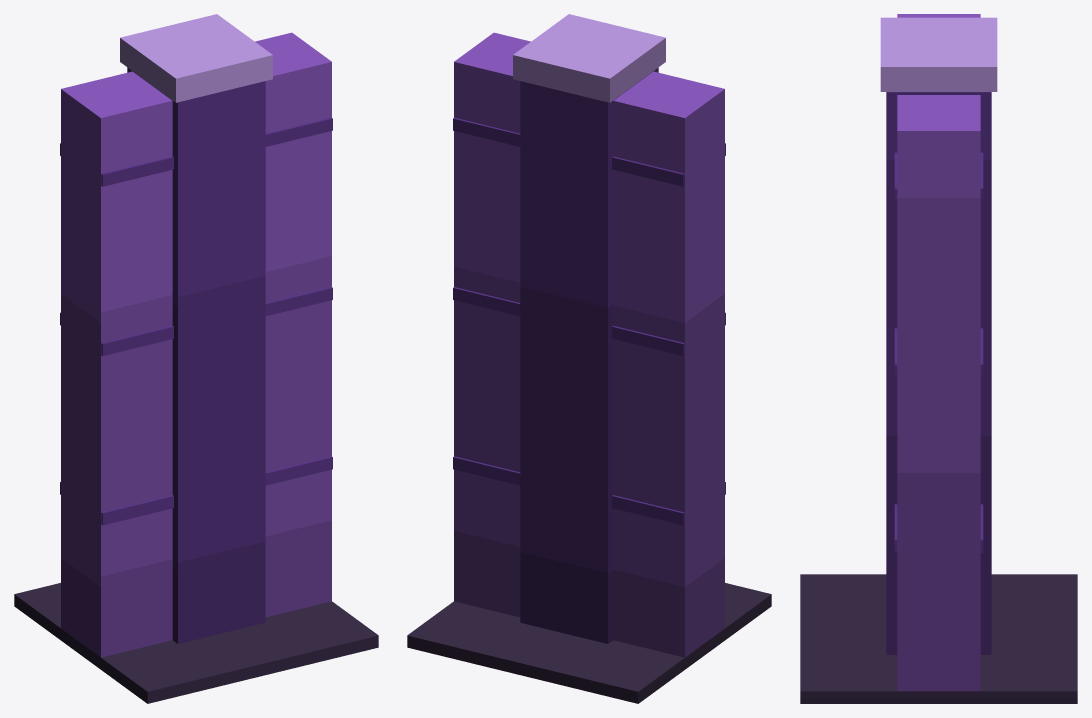
File: model_45_crystal_straight.glb
3 views of the same model, side by side, from view 1: azimuth 30°, elevation 25°; view 2: azimuth 150°, elevation 25°; view 3: azimuth 270°, elevation 25° (orthographic). The views are drawn at different scales.
Size of the model in its own units: 1 by 2.4 by 1.
Materials: 1 (1 with a texture image).
